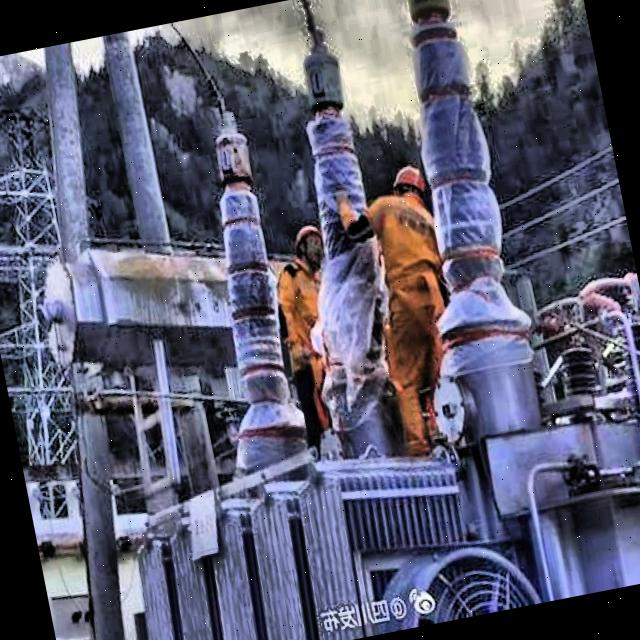helmet: (290, 216, 333, 272), (385, 160, 431, 210)
